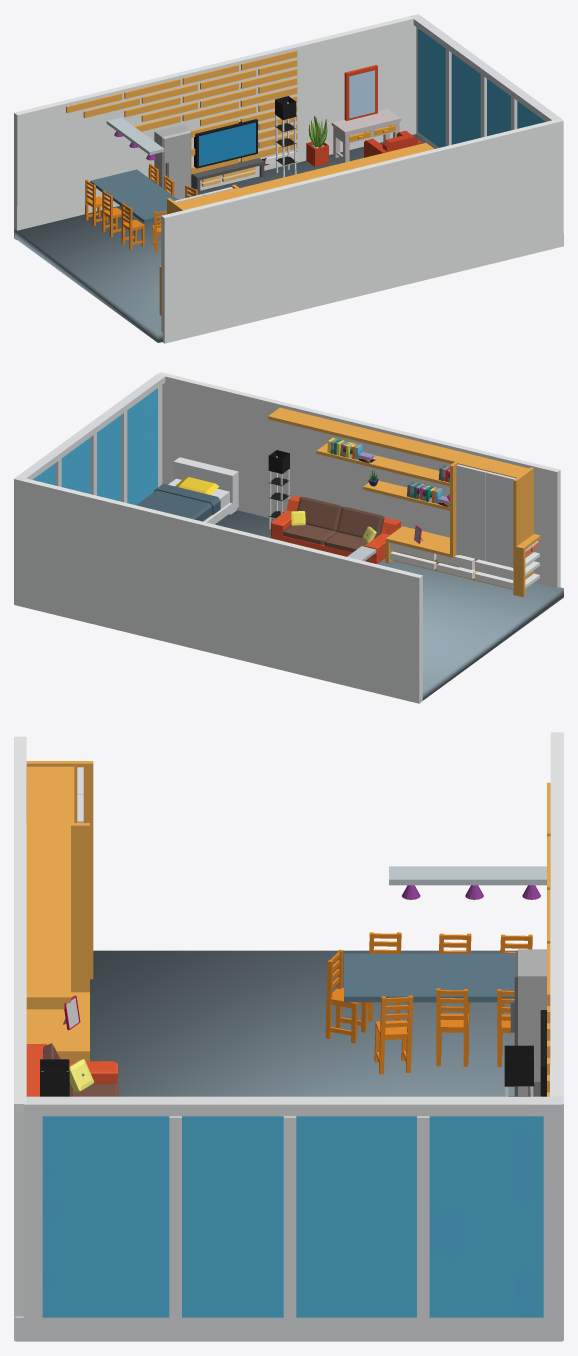
File: map 13 - biet thu.fbx
3 views of the same model, one above another, from view 1: azimuth 30°, elevation 25°; view 2: azimuth 150°, elevation 25°; view 3: azimuth 270°, elevation 25° (orthographic). The views are drawn at different scales.
Visible parts, largest first — view 1: model:mesh1746347321, model:mesh346189844, model:mesh1969353276, model:mesh787289202, model:mesh1453542057, model:mesh1579317768, model:mesh166077996, model:mesh1104049032, model:bedSingle:sideTableDrawers:pCube1, model:bedSingle:sideTableDrawers:sideTableDrawers, model:mesh330548787, model:mesh634077015 (+22 smaller); view 2: model:mesh346189844, model:mesh1746347321, model:mesh1969353276, model:mesh787289202, model:mesh1794030079, model:mesh1104049032, model:mesh1331219294, model:mesh1241120887, model:bedSingle:bedSingle, model:bedSingle:cover, model:mesh969790615, model:mesh1028668539 (+12 smaller); view 3: model:mesh787289202, model:mesh1969353276, model:mesh1104049032, model:mesh1794030079, model:mesh1453542057, model:mesh1746347321, model:mesh346189844, model:mesh166077996, model:mesh1245666865, model:mesh1028668539, model:mesh616577756, model:mesh12166907 (+6 smaller).
Boxes of the visible parts, x1,y1,x2,y2 form: model:mesh1746347321: (161, 118, 563, 343); model:mesh346189844: (14, 14, 417, 239); model:mesh1969353276: (14, 134, 435, 342); model:mesh787289202: (410, 14, 563, 245); model:mesh1453542057: (90, 169, 178, 222); model:mesh1579317768: (194, 119, 257, 168); model:mesh166077996: (154, 124, 191, 199); model:mesh1104049032: (240, 143, 434, 194); model:bedSingle:sideTableDrawers:pCube1: (344, 65, 377, 120); model:bedSingle:sideTableDrawers:sideTableDrawers: (331, 108, 401, 162); model:mesh330548787: (275, 96, 296, 177); model:mesh634077015: (306, 116, 328, 166); model:mesh346189844: (14, 478, 422, 703); model:mesh1746347321: (157, 372, 560, 588); model:mesh1969353276: (215, 510, 563, 701); model:mesh787289202: (14, 374, 165, 604); model:mesh1794030079: (450, 453, 533, 595); model:mesh1104049032: (268, 407, 466, 463); model:mesh1331219294: (456, 464, 486, 560); model:mesh1241120887: (486, 471, 515, 567); model:bedSingle:bedSingle: (168, 457, 238, 524); model:bedSingle:cover: (136, 483, 220, 521); model:mesh969790615: (316, 443, 449, 486); model:mesh1028668539: (385, 526, 456, 557); model:mesh787289202: (15, 1096, 562, 1341); model:mesh1969353276: (90, 950, 516, 1096); model:mesh1104049032: (26, 825, 70, 1002); model:mesh1794030079: (26, 761, 93, 992); model:mesh1453542057: (344, 953, 514, 1002); model:mesh1746347321: (14, 736, 26, 1340); model:mesh346189844: (550, 732, 563, 1340); model:mesh166077996: (514, 949, 546, 1096); model:mesh1245666865: (389, 866, 546, 885); model:mesh1028668539: (26, 992, 89, 1056); model:mesh616577756: (374, 995, 413, 1074); model:mesh12166907: (325, 949, 367, 1043).
Size of the model in its own units: 35.41 by 10.46 by 22.02.
